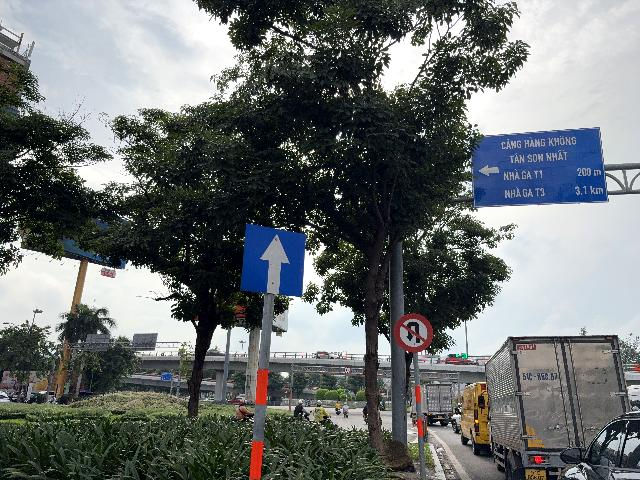cam-quay-dau-xe: (393, 313, 433, 353)
duong-mot-chieu: (240, 223, 306, 297)
